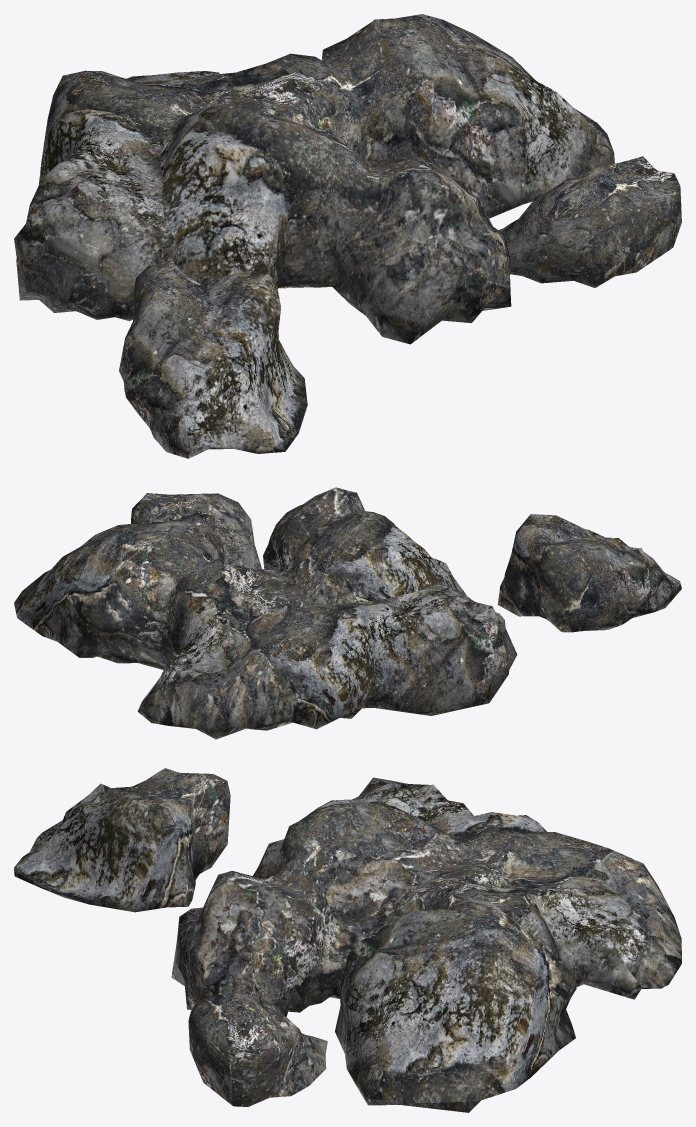
Rendered from cliff_rock_island.fbx.
3 views of the same model, one above another, from view 1: azimuth 30°, elevation 25°; view 2: azimuth 150°, elevation 25°; view 3: azimuth 270°, elevation 25° (orthographic). The views are drawn at different scales.
Parts seen in each view (by area): view 1: cliff_rock_island_mesh; view 2: cliff_rock_island_mesh; view 3: cliff_rock_island_mesh.
Part boxes in pixels (bbox=[...]): cliff_rock_island_mesh: bbox=[14, 14, 681, 458]; cliff_rock_island_mesh: bbox=[14, 487, 681, 739]; cliff_rock_island_mesh: bbox=[14, 768, 681, 1112].
Size of the model in its own units: 21.81 by 5.87 by 22.33.
1 material, 1 textured.
